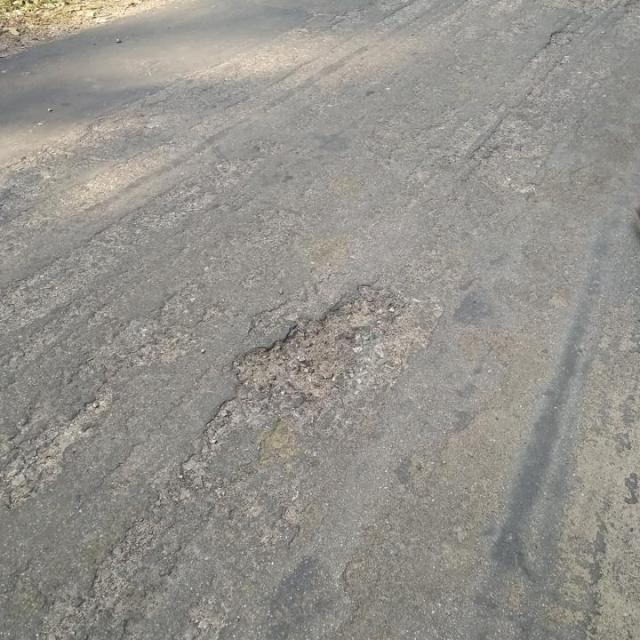pothole: (226, 295, 382, 404)
